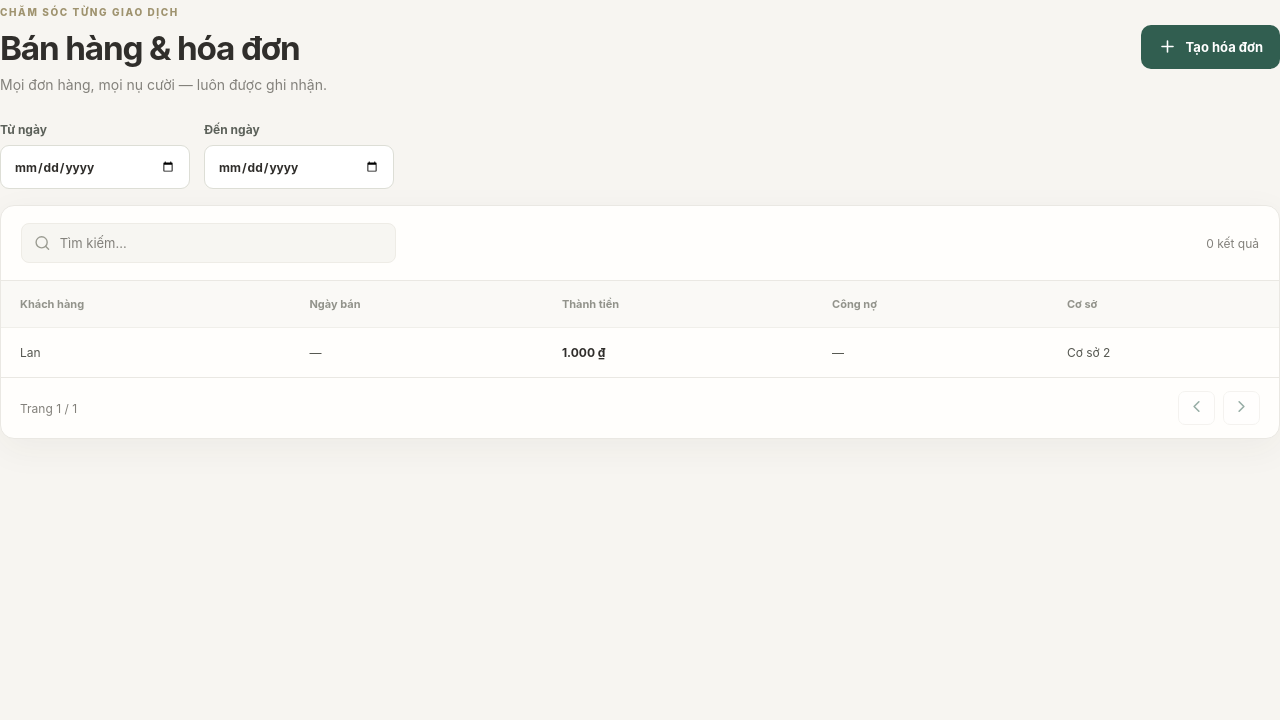
it: mở chi tiết hóa đơn hiển thị ghi chú từ API chi tiết, giữ xuống dòng
Click the text "Lan": (146, 353) [1, 328, 290, 377]
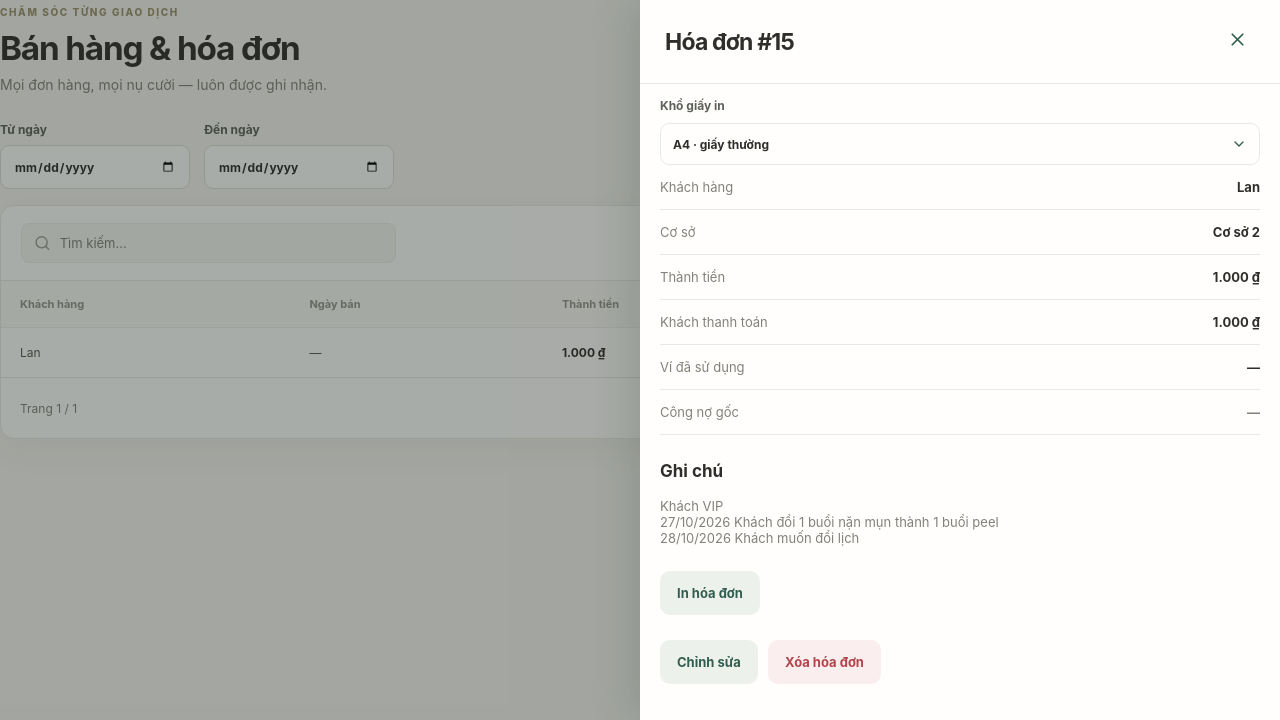
Expected: the element "Ghi chú" is shown, [660, 461, 999, 546]
